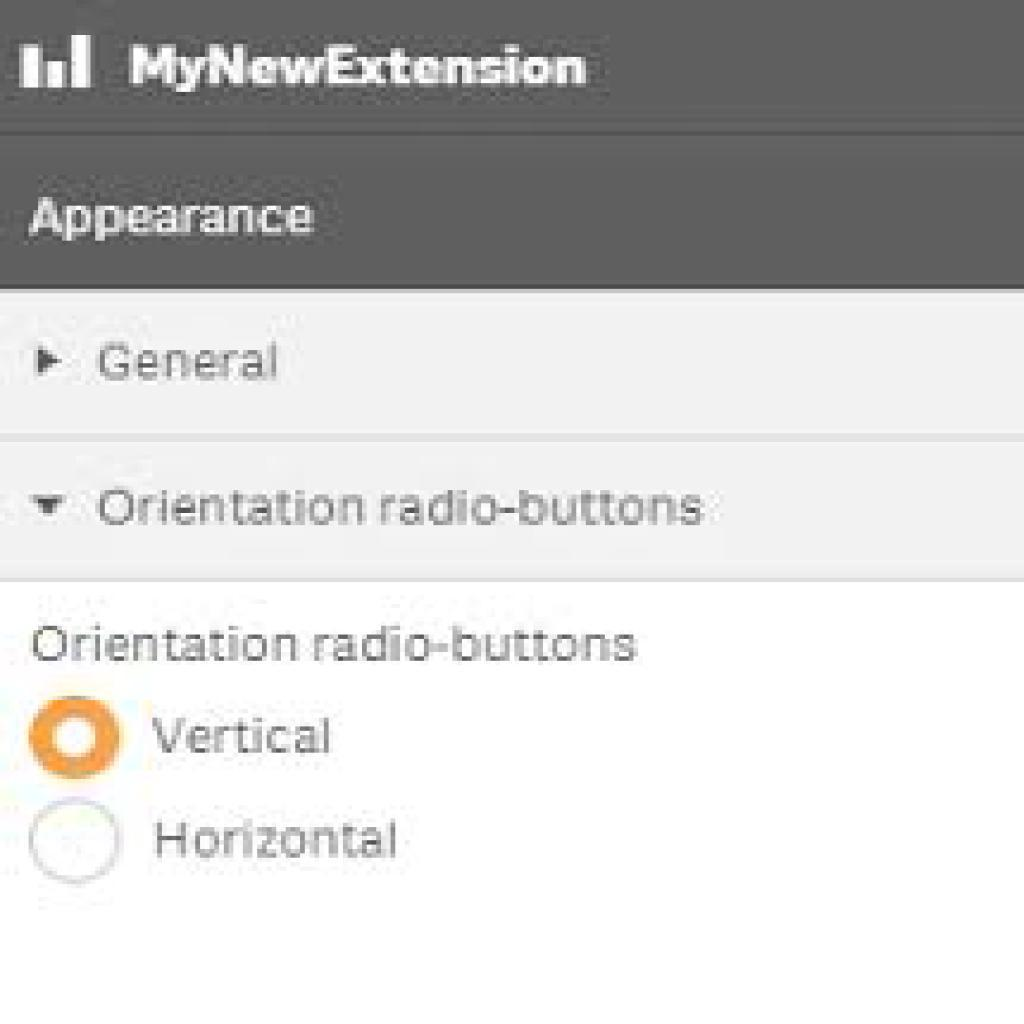dropdown: (2, 288, 1024, 439), (2, 439, 1021, 585)
radio: (28, 693, 130, 795), (30, 798, 130, 893)
